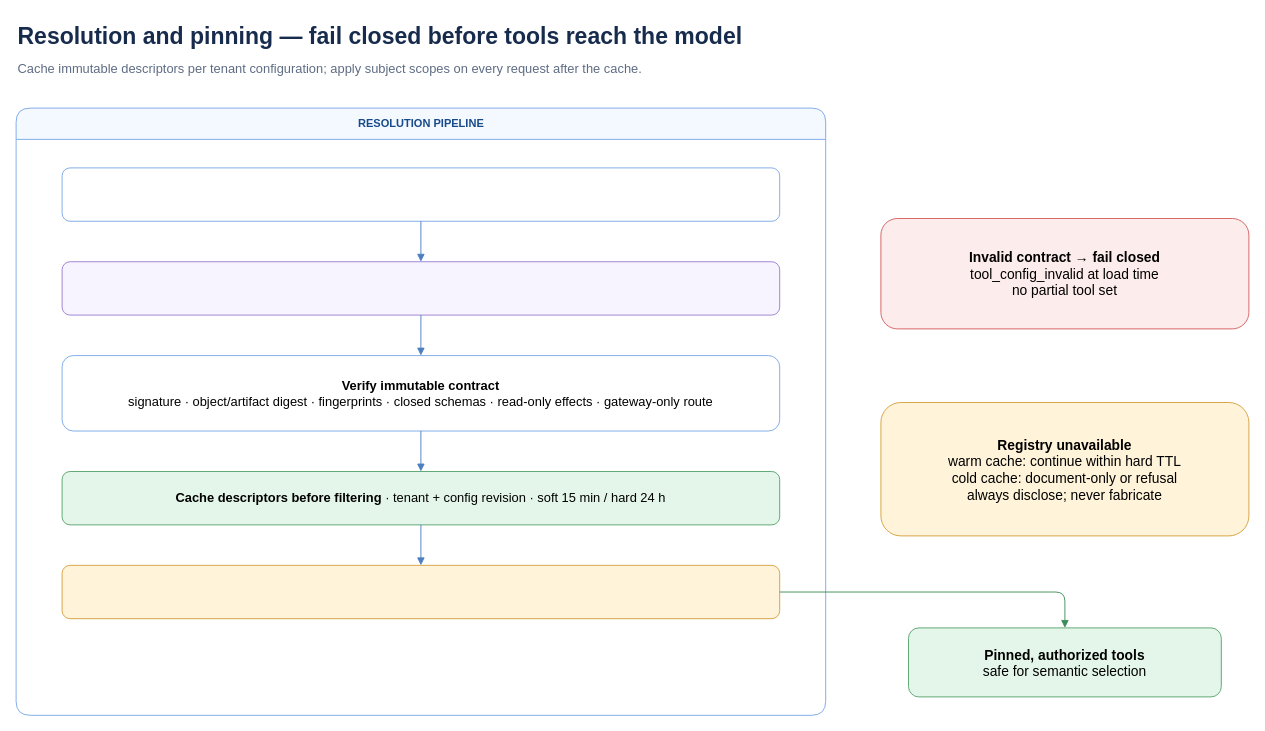
Image size: 1265x731. Some labels were removed from this diagram. Each missing label, with the centre of its shape:
Per-request scope filter · never cached · no model-controlled identity: the point at 420,591
Registry exact fetch · visibility and RBAC pre-filtered: the point at 420,288
Tenant config · exact Registry/image digest · tool fingerprints: the point at 420,194
